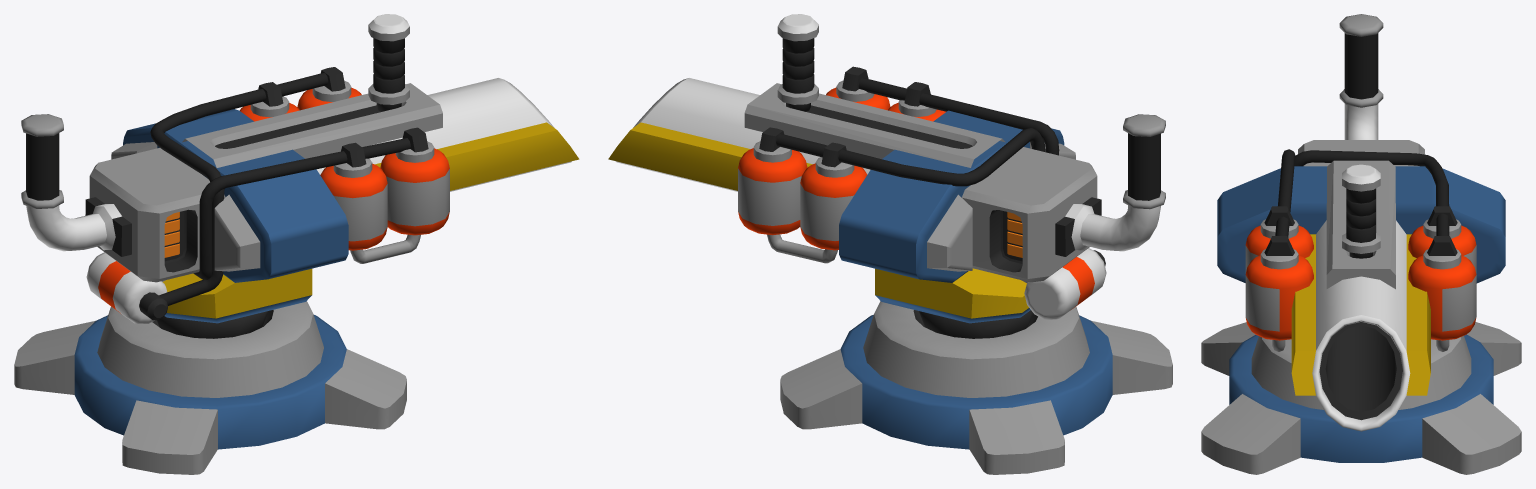
File: TurretOrb.FBX
3 views of the same model, side by side, from view 1: azimuth 30°, elevation 25°; view 2: azimuth 150°, elevation 25°; view 3: azimuth 270°, elevation 25° (orthographic). The views are drawn at different scales.
Visible parts, largest first — view 1: PlasmaTurret, TurretBase, Handle, Handle001; view 2: PlasmaTurret, TurretBase, Handle, Handle001; view 3: PlasmaTurret, TurretBase, Handle, Handle001.
Boxes of the visible parts, x1,y1,x2,y2 form: PlasmaTurret: [26, 67, 579, 338]; TurretBase: [14, 301, 406, 474]; Handle: [21, 114, 63, 208]; Handle001: [368, 14, 409, 111]; PlasmaTurret: [608, 66, 1160, 338]; TurretBase: [780, 301, 1172, 474]; Handle: [1123, 114, 1165, 209]; Handle001: [777, 14, 818, 111]; PlasmaTurret: [1217, 104, 1505, 431]; TurretBase: [1201, 322, 1521, 474]; Handle: [1339, 14, 1383, 107]; Handle001: [1342, 164, 1380, 258].
Size of the model in its own units: 354 by 208 by 185.
